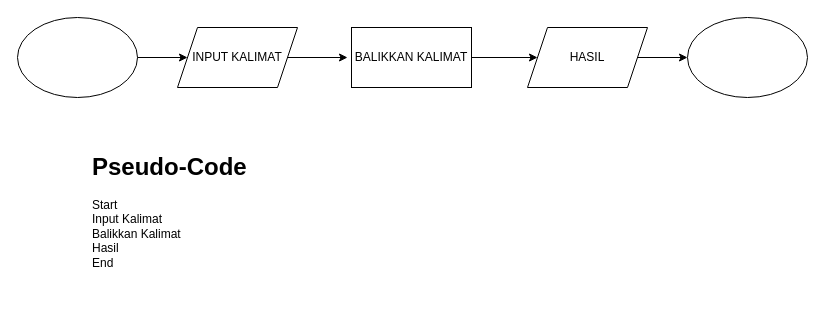
This 825x315 diagram has some shape labels left out. The centre of each missing label's shape, as x and y in pixels:
END: pixel 747 57
START: pixel 77 57
